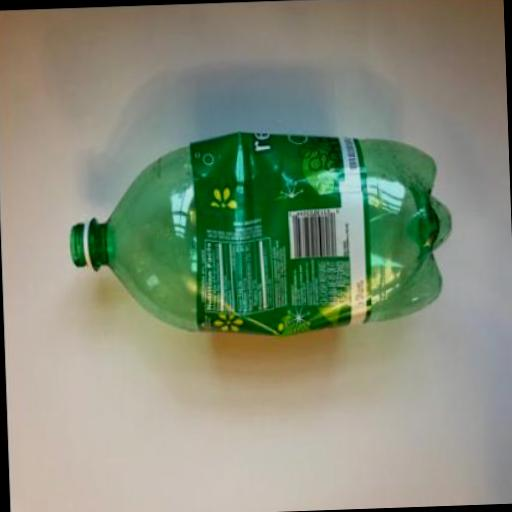plastic: (62, 122, 452, 342), (186, 126, 370, 334)
